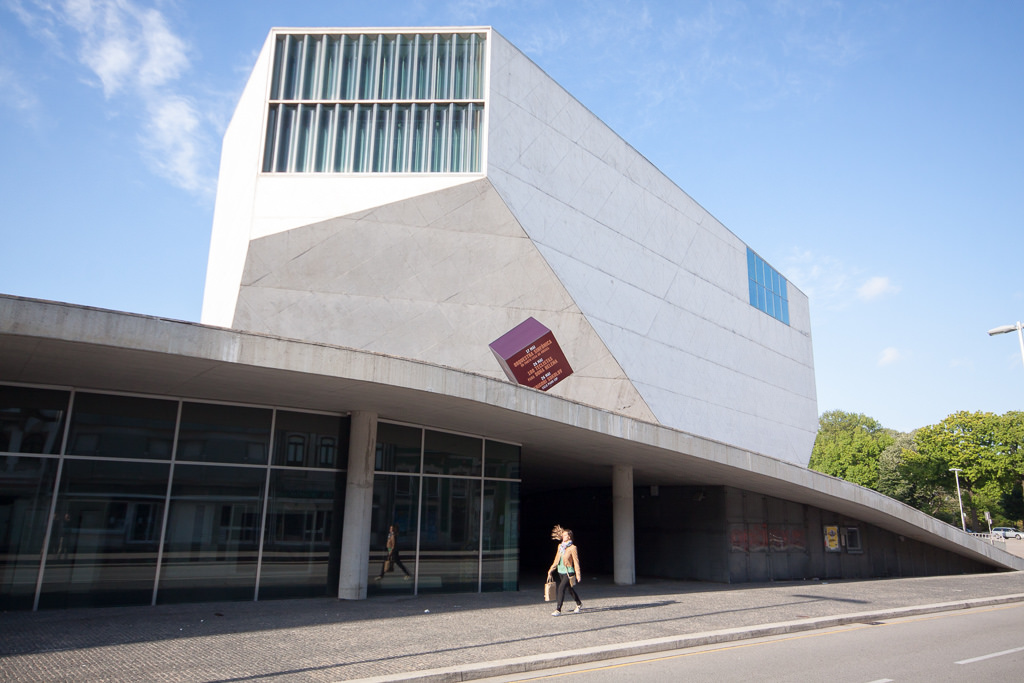musica: (199, 23, 819, 467)
